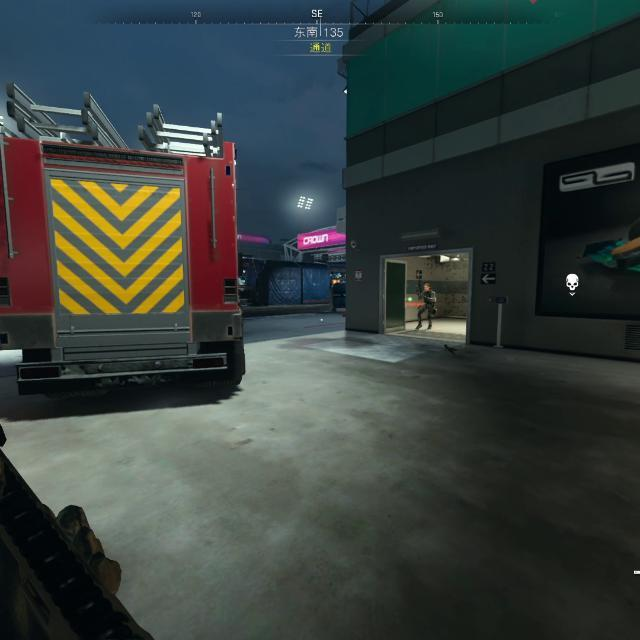MW2_body: (416, 284, 437, 331)
